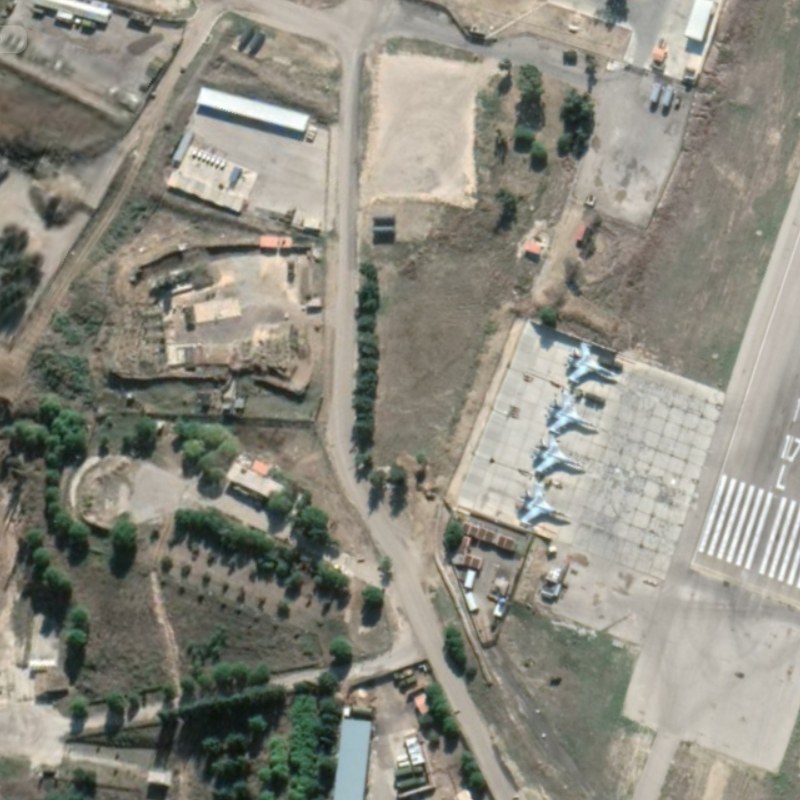A1: (514, 478, 574, 528), (543, 389, 600, 438), (563, 339, 618, 385), (532, 433, 586, 477)
